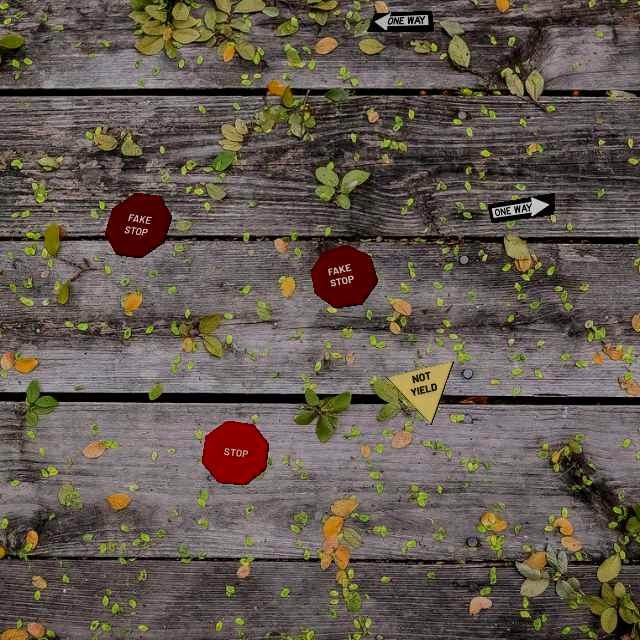FAKE_STOP: (104, 192, 172, 258), (310, 244, 378, 308)
NOT_YIELD: (386, 360, 454, 425)
ONE_WAY_ left: (366, 10, 434, 32)
ONE_WAY_ right: (487, 192, 555, 223)
STOP: (201, 420, 269, 485)
